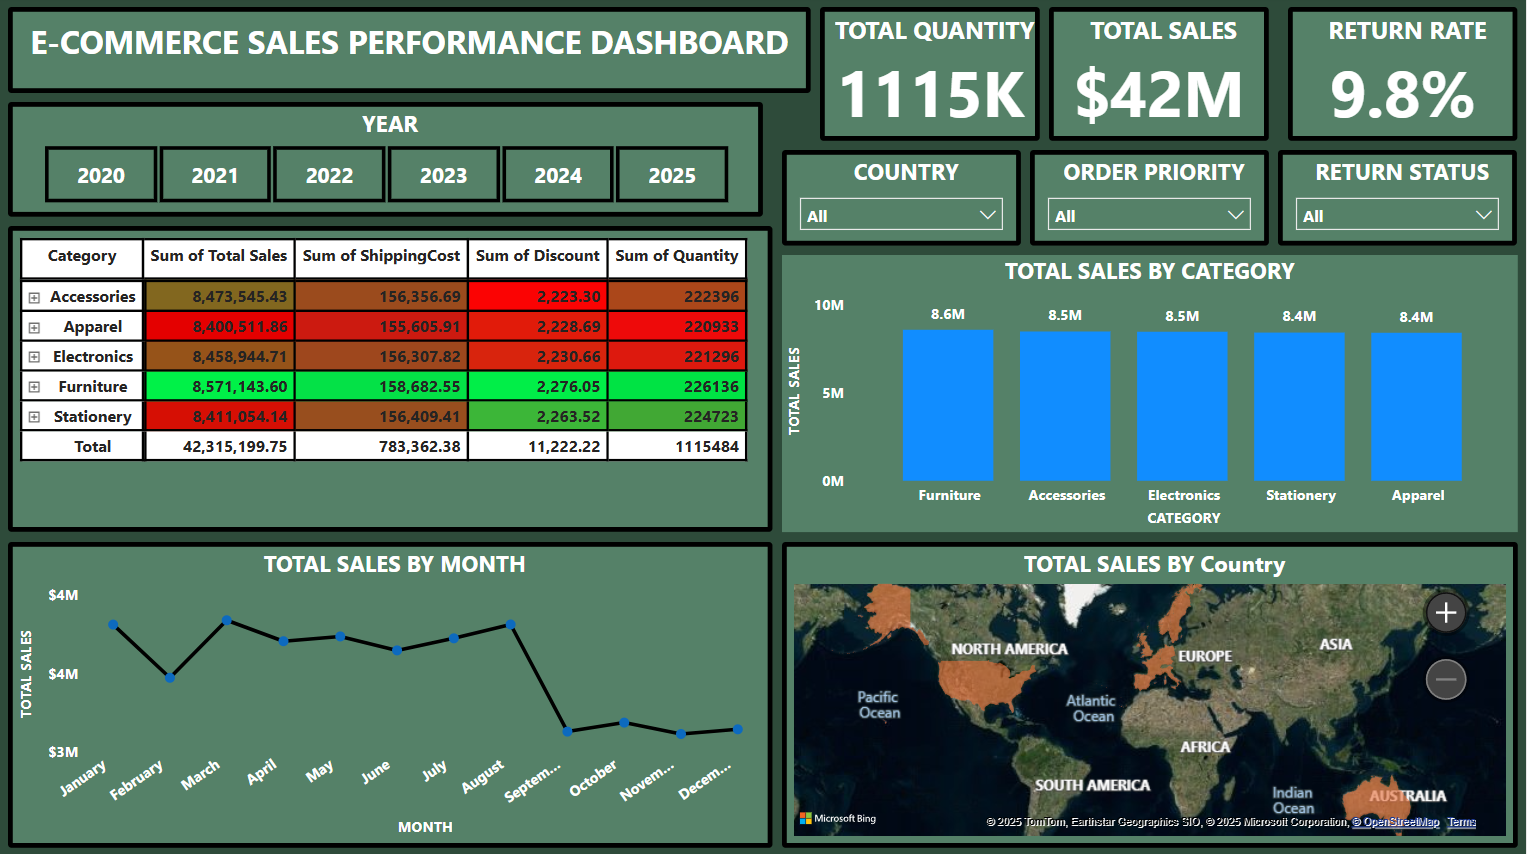

The page's visual inventory and layout, read from the dashboard file:
{"tool":"powerbi","page":{"name":"Page 1","canvas":[1280,720],"ordinal":0},"visuals":[{"type":"textbox","box":[8,8,672,72],"z":0},{"type":"card","title":"TOTAL QUANTITY","fields":{"Values":["Sum(online_sales_data.Quantity)"]},"box":[688,8,184,112],"z":1000},{"type":"card","title":"TOTAL SALES","fields":{"Values":["Sum(online_sales_data.Total Sales )"]},"box":[880,8,184,112],"z":2000},{"type":"card","title":"RETURN RATE","fields":{"Values":["online_sales_data.Return Rate (%)"]},"box":[1080,8,192,112],"z":3000},{"type":"slicer","title":"YEAR","fields":{"Values":["online_sales_data.InvoiceDate.Variation.Date Hierarchy.Year"]},"box":[8,88,632,96],"z":4000},{"type":"slicer","title":"COUNTRY","fields":{"Values":["online_sales_data.Country"]},"box":[656,128,200,80],"z":5000},{"type":"slicer","title":"ORDER PRIORITY","fields":{"Values":["online_sales_data.OrderPriority"]},"box":[864,128,200,80],"z":6000},{"type":"slicer","title":"RETURN STATUS","fields":{"Values":["online_sales_data.ReturnStatus"]},"box":[1072,128,200,80],"z":7000},{"type":"lineChart","title":"TOTAL SALES BY MONTH","fields":{"Category":["online_sales_data.InvoiceDate.Variation.Date Hierarchy.Month"],"Y":["Sum(online_sales_data.Total Sales )"]},"box":[8,456,640,256],"z":8000},{"type":"pivotTable","fields":{"Rows":["online_sales_data.Category","online_sales_data.Description"],"Values":["Sum(online_sales_data.Total Sales )","Sum(online_sales_data.ShippingCost)","Sum(online_sales_data.Discount)","Sum(online_sales_data.Quantity)"]},"box":[8,192,640,256],"z":9000},{"type":"columnChart","title":"TOTAL SALES BY CATEGORY","fields":{"Category":["online_sales_data.Category"],"Y":["Sum(online_sales_data.Total Sales )"]},"box":[656,216,616,232],"z":10000},{"type":"filledMap","title":"TOTAL SALES BY Country","fields":{"Category":["online_sales_data.Country"]},"box":[656,456,616,256],"z":11000}]}

Visuals, with their boxes in screenshot pixels (x1, y1, x2, y2), scaled from the page's 1280x720 canvas onto the 1527x854 screenshot:
textbox: 10,9,811,95
"TOTAL QUANTITY" card: 821,9,1040,142
"TOTAL SALES" card: 1050,9,1269,142
"RETURN RATE" card: 1288,9,1517,142
"YEAR" slicer: 10,104,764,218
"COUNTRY" slicer: 783,152,1021,247
"ORDER PRIORITY" slicer: 1031,152,1269,247
"RETURN STATUS" slicer: 1279,152,1517,247
"TOTAL SALES BY MONTH" lineChart: 10,541,773,845
pivotTable - online_sales_data.Category x online_sales_data.Description: 10,228,773,531
"TOTAL SALES BY CATEGORY" columnChart: 783,256,1517,531
"TOTAL SALES BY Country" filledMap: 783,541,1517,845
